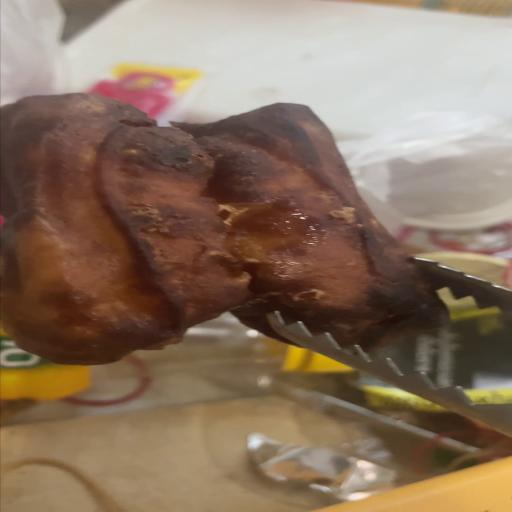street_burnt_defect: (0, 93, 447, 365)
